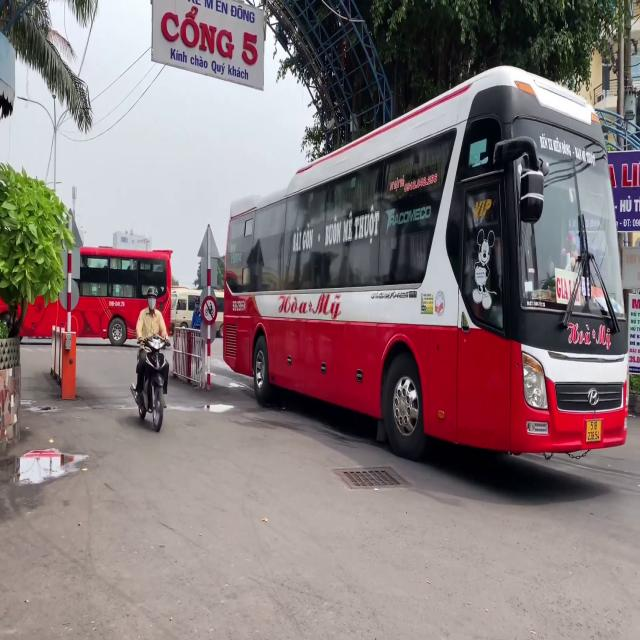bien_vang: (586, 419, 602, 444)
